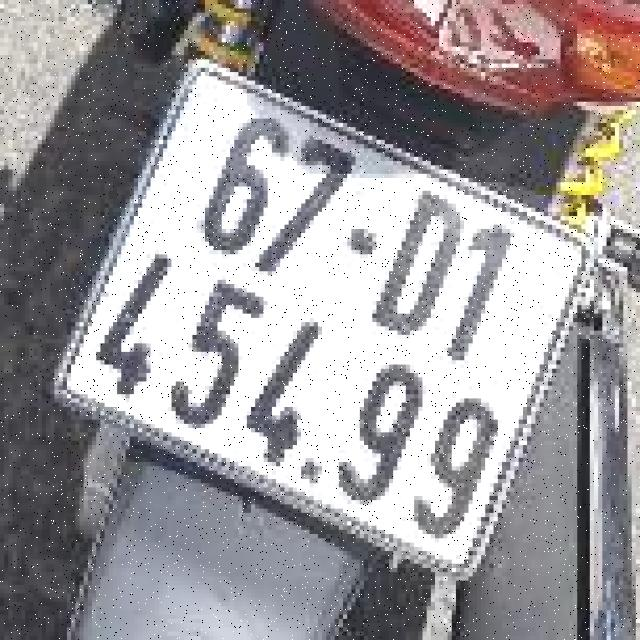1: (432, 212, 524, 370)
4: (225, 304, 340, 476), (78, 238, 191, 410)
5: (154, 270, 282, 441)
6: (185, 108, 299, 264)
7: (242, 127, 375, 284)
9: (397, 379, 514, 561), (320, 348, 443, 520)
D: (362, 181, 481, 348)
